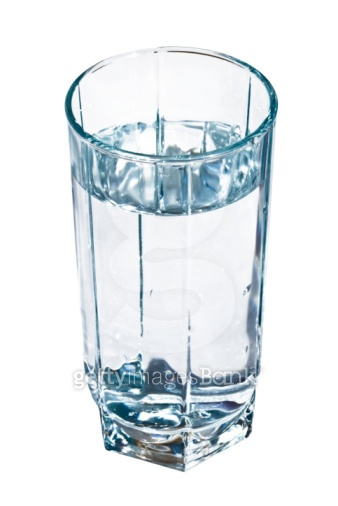glass of water: (59, 43, 276, 473)
